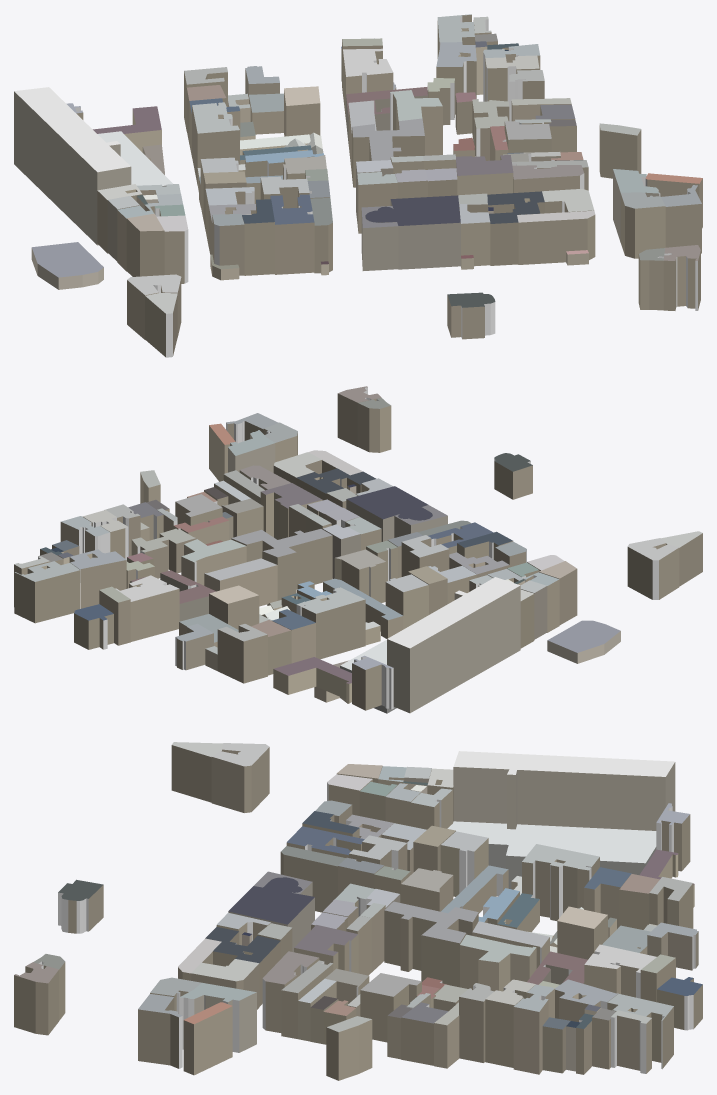
3 views of the same model, one above another, from view 1: azimuth 30°, elevation 25°; view 2: azimuth 150°, elevation 25°; view 3: azimuth 270°, elevation 25° (orthographic). The views are drawn at different scales.
Parts seen in each view (by area): view 1: tuile; view 2: tuile; view 3: tuile.
Part boxes in pixels (left/top/right/bottom): tuile: left=14, top=14, right=702, bottom=357; tuile: left=14, top=386, right=702, bottom=713; tuile: left=14, top=742, right=702, bottom=1080.
Bounding box in the file's own units: 262 × 44.85 × 267.
